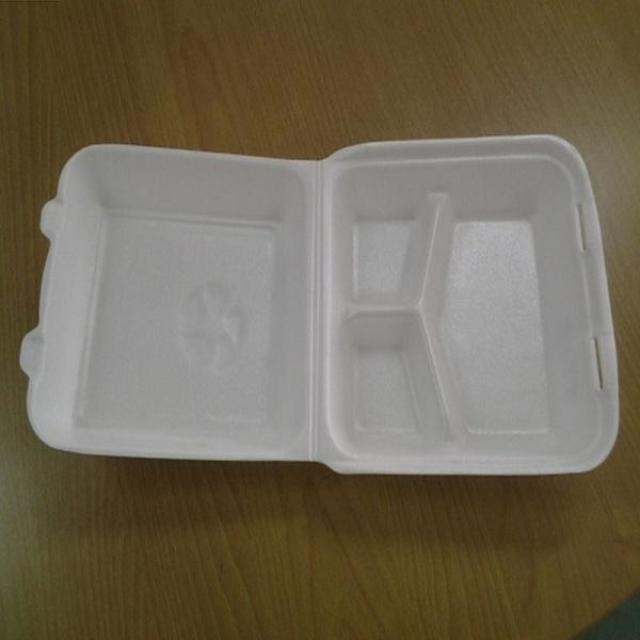styrofoam: (18, 131, 621, 477)
